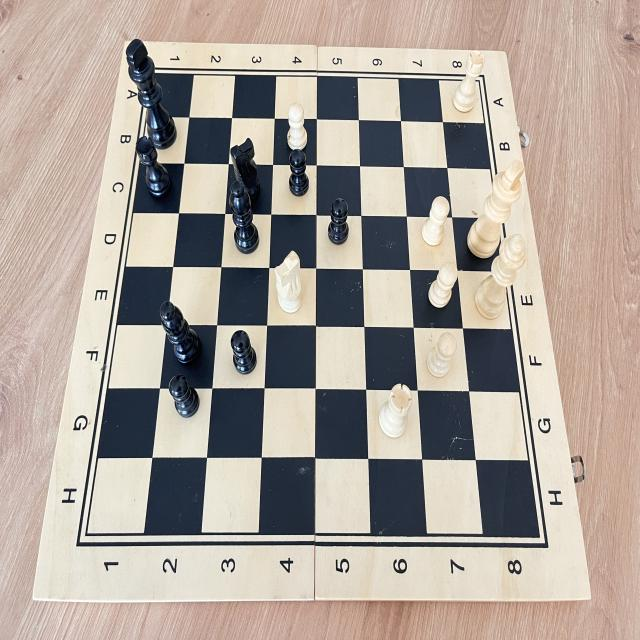black-bishop: (154, 293, 211, 378), (220, 178, 265, 261)
black-king: (121, 34, 180, 150)
black-knight: (225, 132, 268, 208)
black-pawn: (166, 369, 203, 422), (323, 191, 354, 252), (285, 144, 315, 202), (227, 326, 260, 378)
black-rook: (131, 131, 177, 204)
white-bishop: (268, 246, 310, 323)
white-king: (462, 151, 526, 274)
white-pawn: (424, 258, 460, 314), (423, 329, 461, 381), (419, 192, 452, 250), (283, 98, 310, 158)
white-queen: (470, 226, 530, 332)
white-rook: (448, 48, 490, 123), (372, 378, 418, 446)
